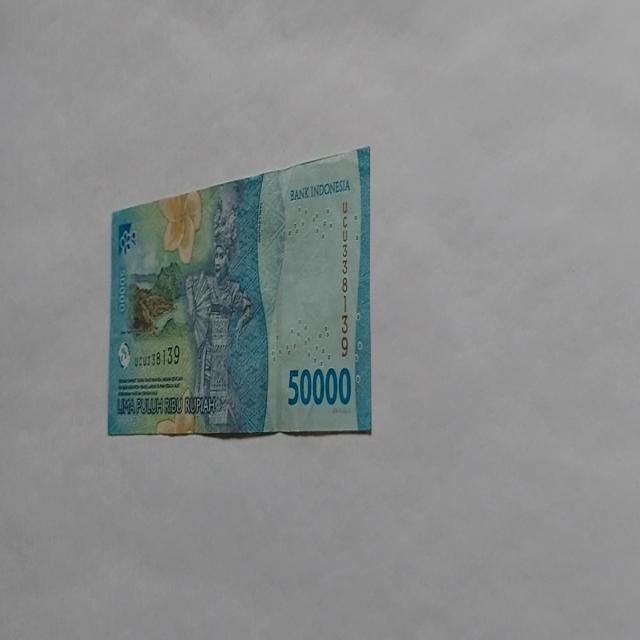lima puluh ribu rupiah: (106, 144, 372, 438)
